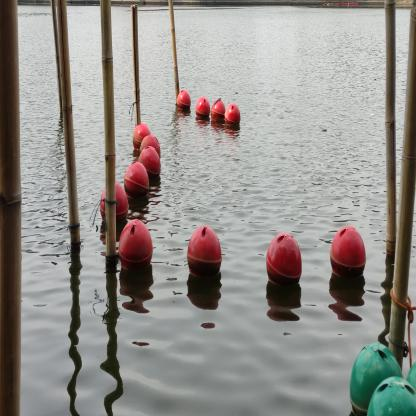green_buoy: (348, 342, 405, 415), (367, 374, 415, 415)
red_buoy: (265, 229, 303, 291), (186, 223, 223, 284), (329, 224, 367, 283), (118, 218, 154, 274), (99, 181, 130, 231), (124, 160, 150, 202), (137, 145, 161, 179), (139, 134, 162, 160), (132, 123, 151, 151), (224, 104, 240, 129), (210, 98, 225, 124), (176, 89, 192, 112), (194, 96, 210, 119)
